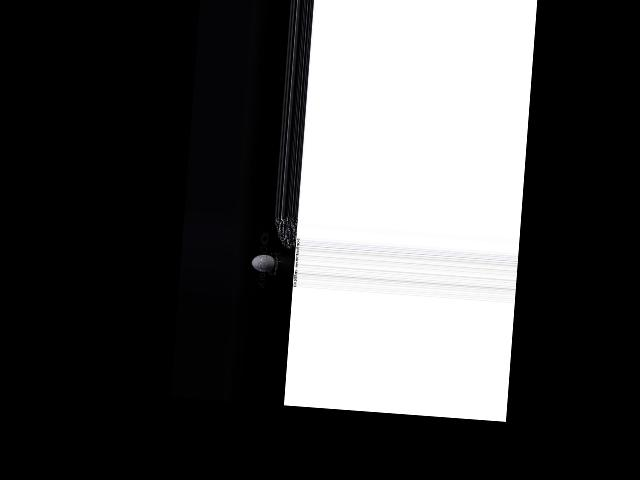egg: (251, 254, 276, 273)
